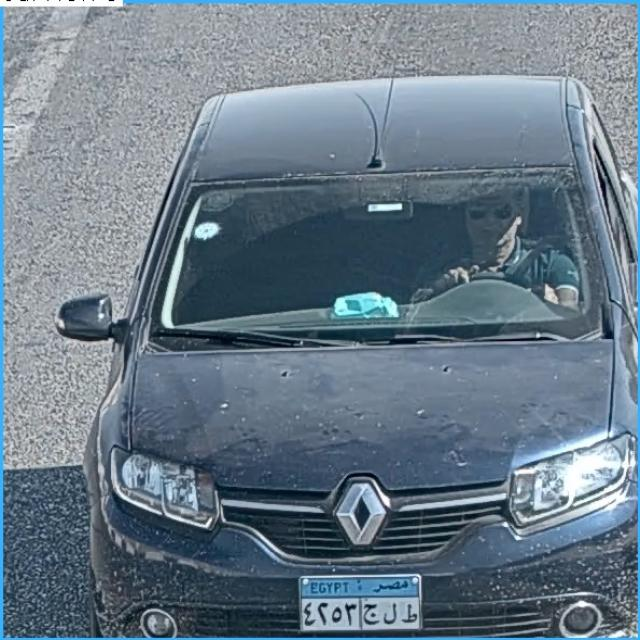windshield: (155, 182, 601, 341)
